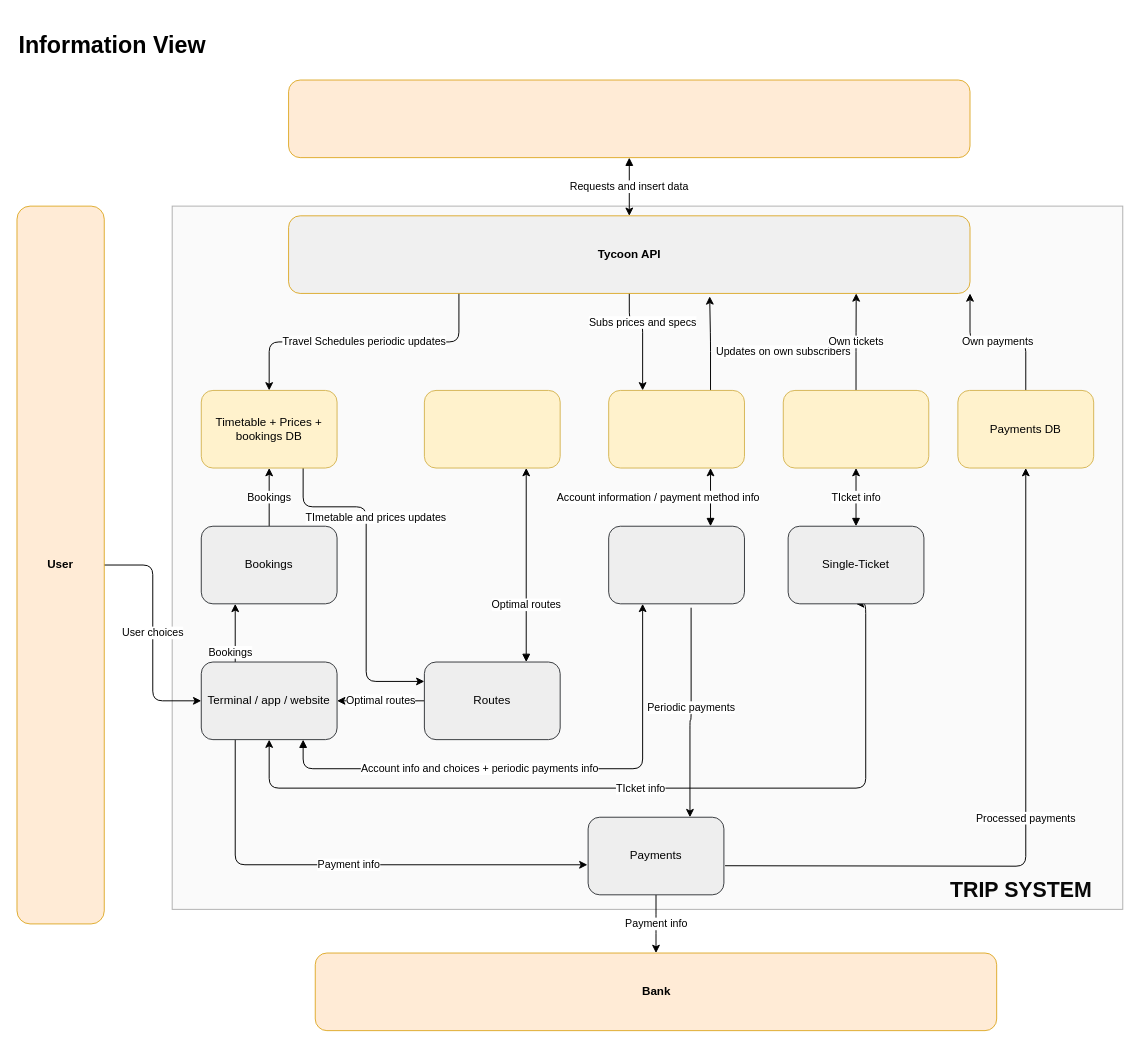
Some shapes in this 1140 by 1048 pixel diagram are drawn without their labels. The shapes that lost their labels are listed below. From the top down, each one's centre as x and y in pixels, then its label:
At [629,118]: "Tycoon".
At [491,428]: "Optimized routes DB".
At [676,428]: "Accounts/subs DB".
At [855,428]: "Tickets DB".
At [676,564]: "Accounts (Subs)".
